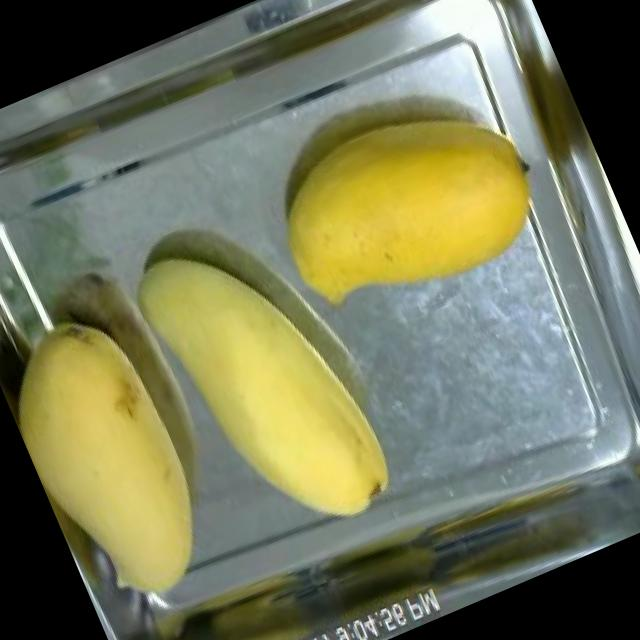fruit: (122, 196, 412, 570), (238, 62, 566, 344), (0, 281, 248, 632)
